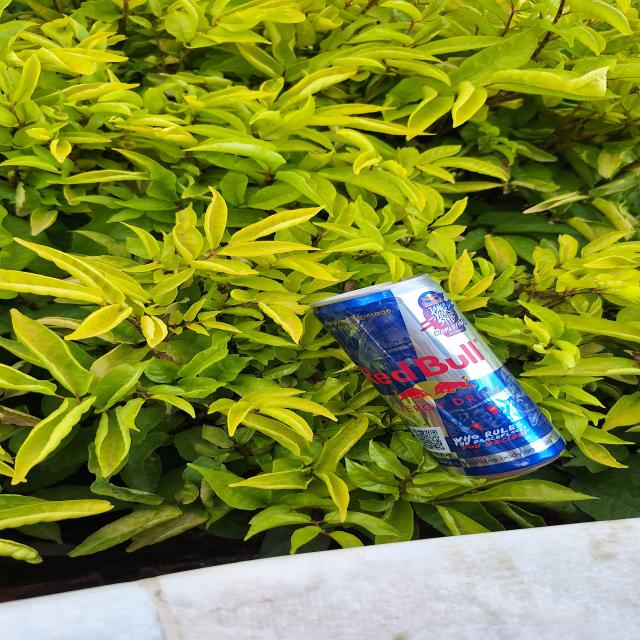Redbull DanceYourStyle: (312, 273, 569, 473)
